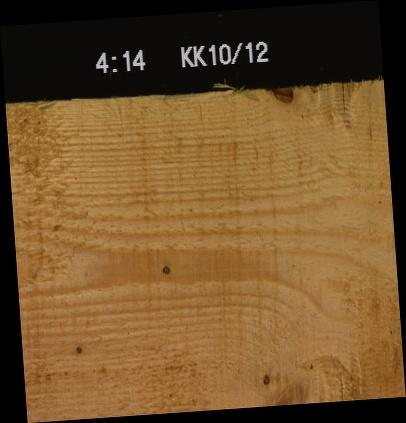dry_knot: (72, 339, 85, 357), (158, 261, 171, 277), (258, 370, 270, 386)
